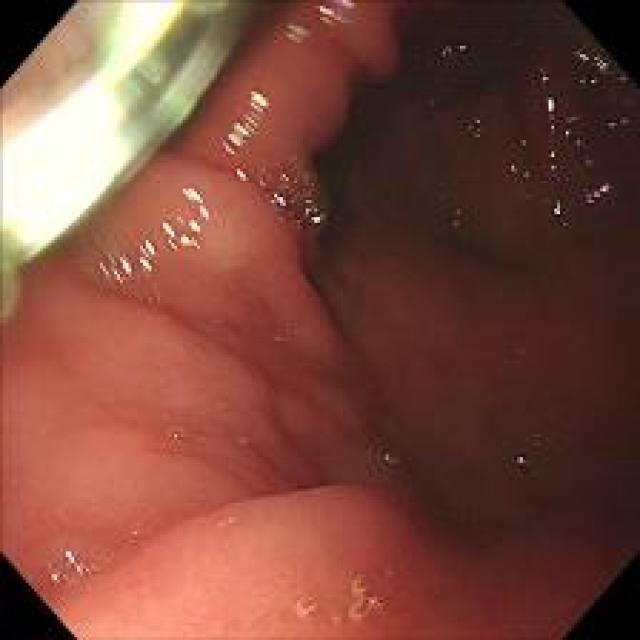bubbles: (258, 156, 336, 235), (285, 574, 384, 628), (162, 420, 191, 459), (512, 440, 541, 479), (122, 512, 150, 550), (144, 288, 165, 309), (235, 435, 250, 450), (270, 330, 286, 344)
color misalignment: (114, 0, 242, 176), (0, 1, 59, 268), (60, 0, 114, 230), (538, 65, 562, 218), (285, 0, 369, 42), (270, 166, 321, 222), (45, 541, 101, 591), (576, 54, 610, 92), (584, 178, 611, 211), (224, 121, 248, 154), (242, 89, 261, 128), (358, 581, 379, 614), (562, 108, 574, 144), (378, 452, 401, 470), (582, 154, 592, 166), (574, 139, 579, 146)
contrast: (298, 9, 628, 338)
specularity: (0, 72, 124, 252), (110, 1, 181, 69), (220, 88, 268, 156), (162, 184, 209, 252), (99, 240, 155, 282)
